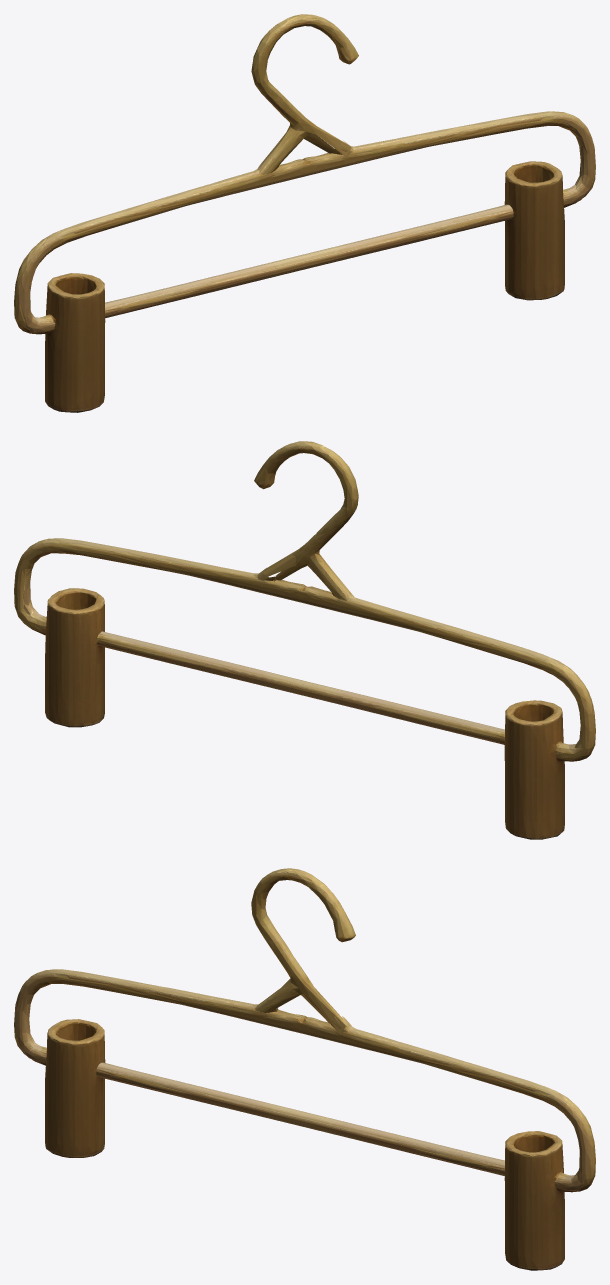
3 renders of one model, top to bottom at view 1: azimuth 30°, elevation 25°; view 2: azimuth 150°, elevation 25°; view 3: azimuth 330°, elevation 25°, orthographic.
Parts seen in each view (by area): view 1: geometry_0.003; view 2: geometry_0.003; view 3: geometry_0.003.
Boxes of the visible parts, <box> form: geometry_0.003: <box>14,14,595,412</box>; geometry_0.003: <box>14,441,595,839</box>; geometry_0.003: <box>14,868,595,1270</box>.
Bounding box in the file's own units: 0.9998 × 0.5466 × 0.0865.
1 material, 1 textured.
